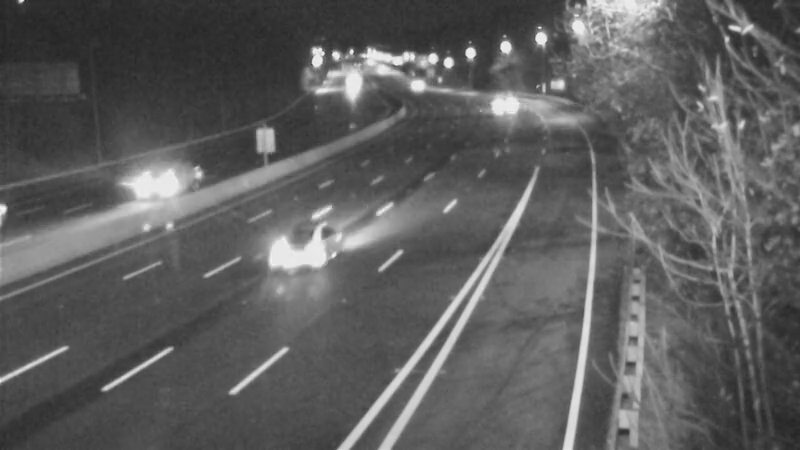vehicle: (270, 206, 350, 286), (109, 146, 189, 226), (389, 56, 439, 106), (477, 84, 527, 134)
